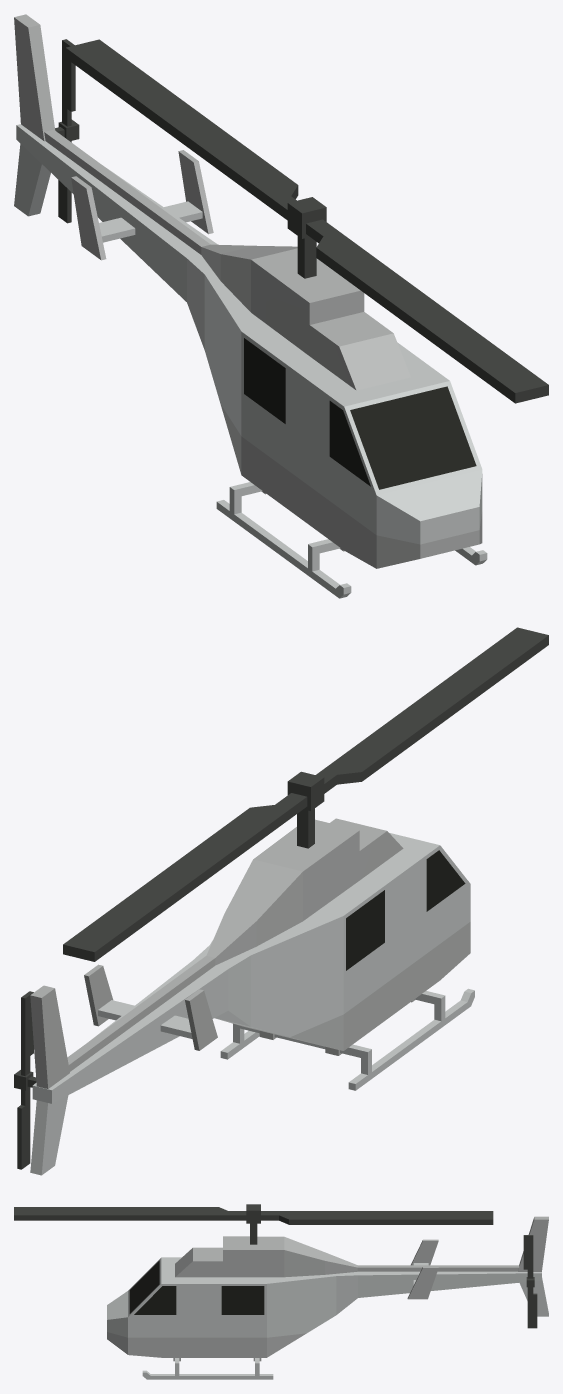
Rendered from Veh_Helicopter_01_White.glb.
3 renders of one model, top to bottom at view 1: azimuth 30°, elevation 25°; view 2: azimuth 150°, elevation 25°; view 3: azimuth 270°, elevation 25°, orthographic. The views are drawn at different scales.
Parts seen in each view (by area): view 1: Veh_Helicopter_01_White, Rotor_Main, Rotor_Tail; view 2: Veh_Helicopter_01_White, Rotor_Main, Rotor_Tail; view 3: Veh_Helicopter_01_White, Rotor_Main, Rotor_Tail.
Part boxes in pixels (x1,y1,x2,y2): Veh_Helicopter_01_White: (14, 14, 487, 598); Rotor_Main: (65, 39, 548, 403); Rotor_Tail: (55, 39, 79, 223); Veh_Helicopter_01_White: (30, 818, 474, 1175); Rotor_Main: (63, 627, 548, 961); Rotor_Tail: (14, 991, 36, 1169); Veh_Helicopter_01_White: (107, 1216, 548, 1379); Rotor_Main: (14, 1204, 493, 1244); Rotor_Tail: (523, 1235, 537, 1328).
Bounding box in the file's own units: 1.02 × 2.05 × 6.44.
1 material, 1 textured.
